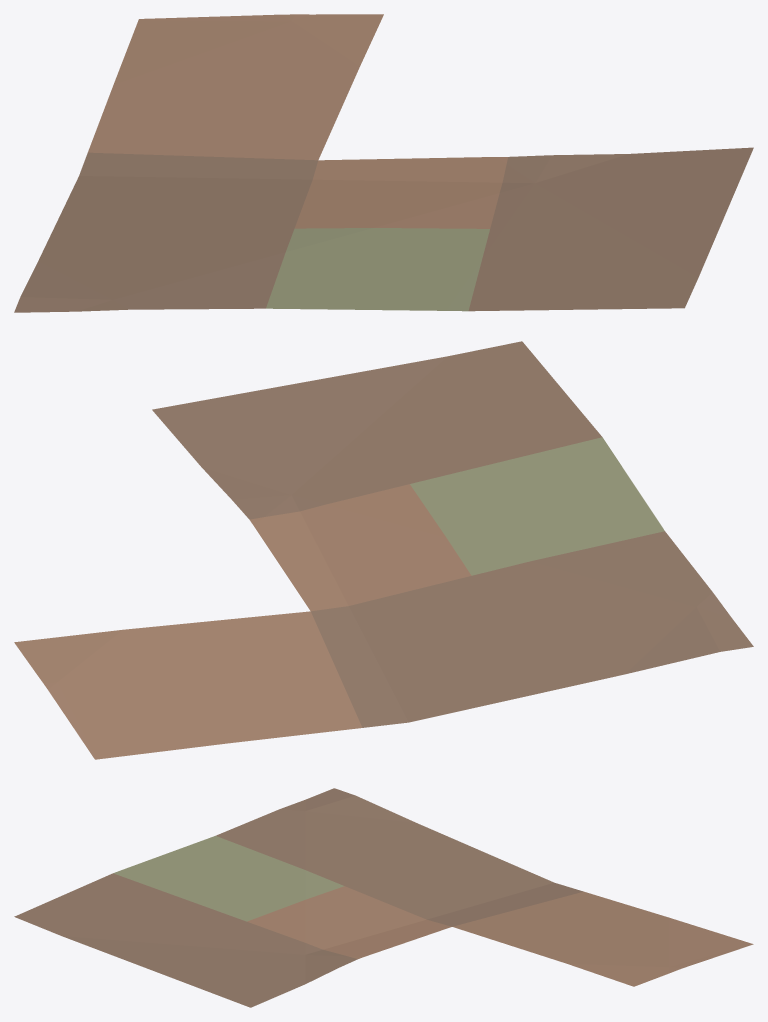
File: farm_-29_-42_soil.glb
3 views of the same model, one above another, from view 1: azimuth 30°, elevation 25°; view 2: azimuth 150°, elevation 25°; view 3: azimuth 270°, elevation 25° (orthographic). The views are drawn at different scales.
Parts seen in each view (by area): view 1: geometry_0; view 2: geometry_0; view 3: geometry_0.
Part boxes in pixels (x1,y1,x2,y2): geometry_0: (14, 14, 753, 312); geometry_0: (14, 341, 753, 759); geometry_0: (14, 788, 753, 1007).
Size of the model in its own units: 130 by 13.25 by 163.
